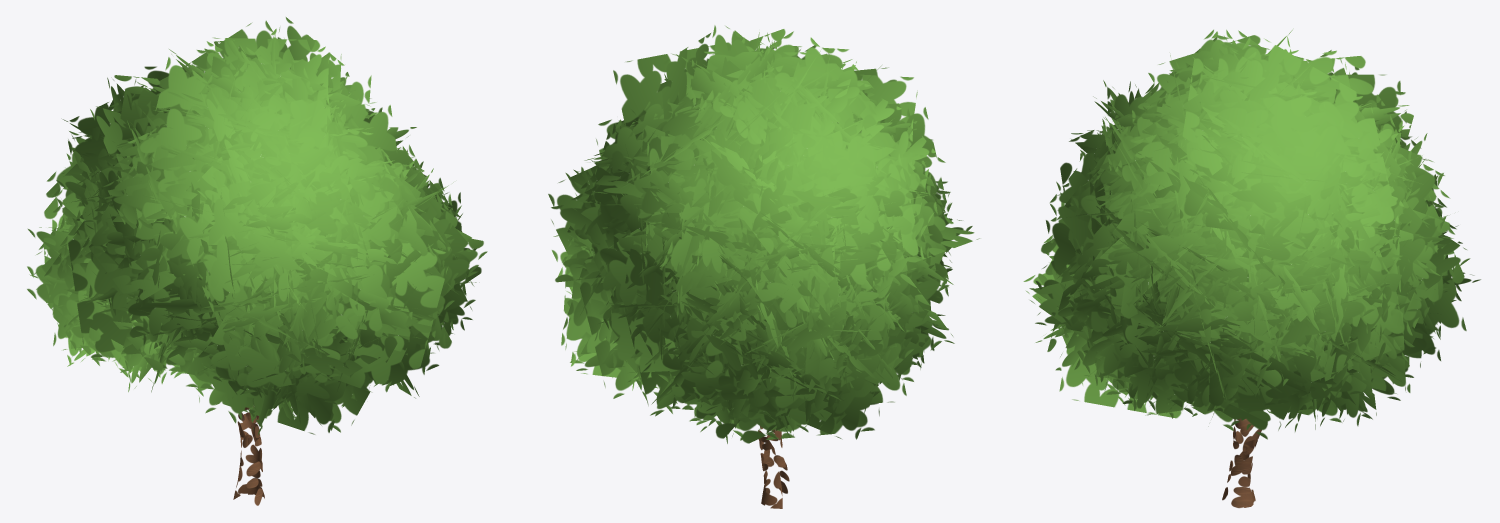
File: tree.glb
The picture shows the model from 3 angles, left to right: view 1: azimuth 30°, elevation 25°; view 2: azimuth 150°, elevation 25°; view 3: azimuth 270°, elevation 25°; orthographic projection. The views are drawn at different scales.
Visible parts, largest first — view 1: tree; view 2: tree; view 3: tree.
Boxes of the visible parts, left/top/right/bottom form: tree: left=27, top=17, right=487, bottom=505; tree: left=548, top=25, right=980, bottom=508; tree: left=1023, top=28, right=1480, bottom=508.
Size of the model in its own units: 1.15 by 1.28 by 1.15.
Materials: 1 (1 with a texture image).
